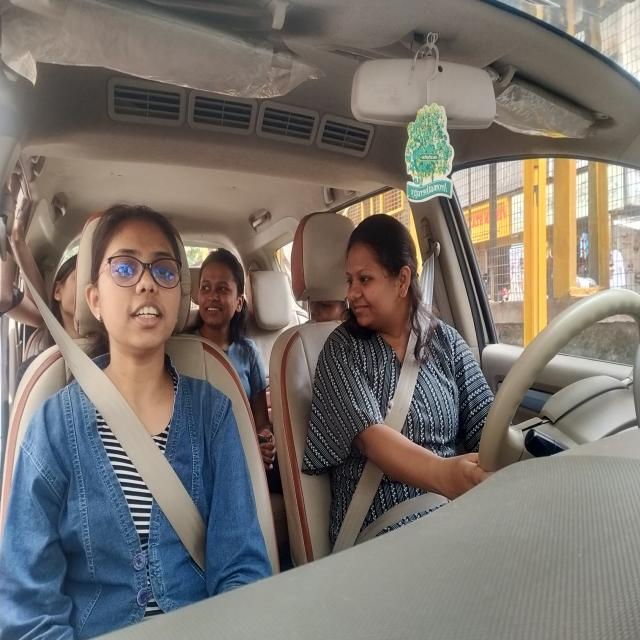LeftRight: (330, 202, 424, 350)
person: (71, 192, 190, 367), (197, 236, 253, 360), (45, 244, 87, 338)
